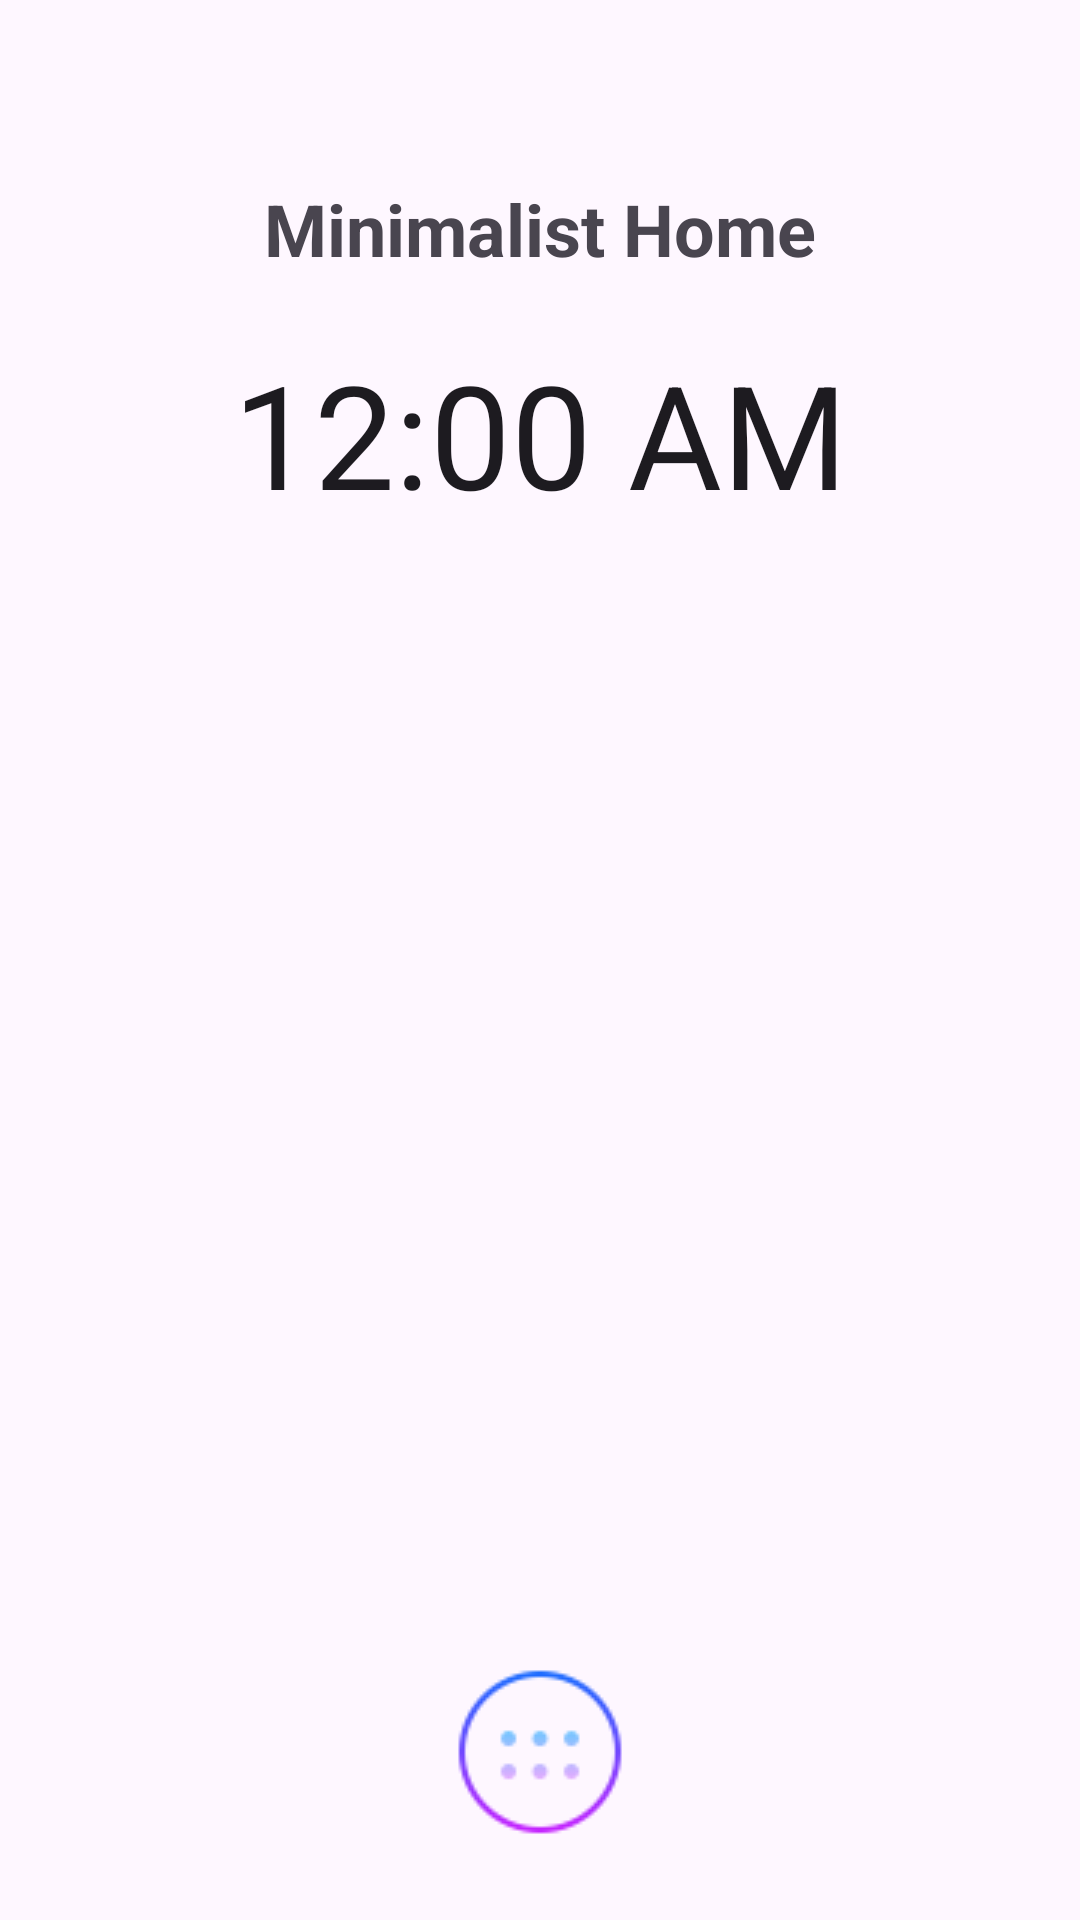

Icon bounding boxes for this 1080×1920 phone screenshot, format [x1, y1, x2, y2]:
drawer: [458, 1670, 622, 1834]
